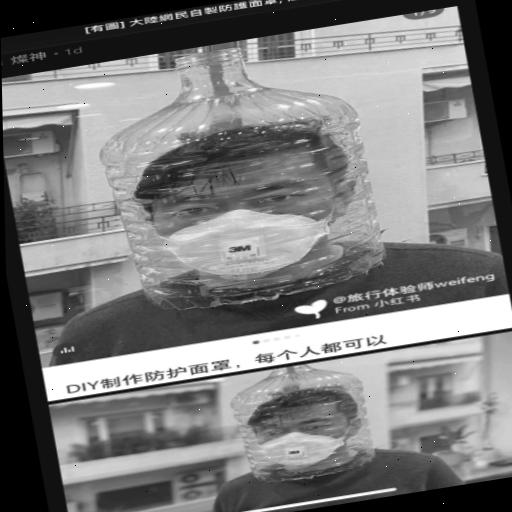mask: (108, 106, 403, 303), (196, 353, 406, 484)
